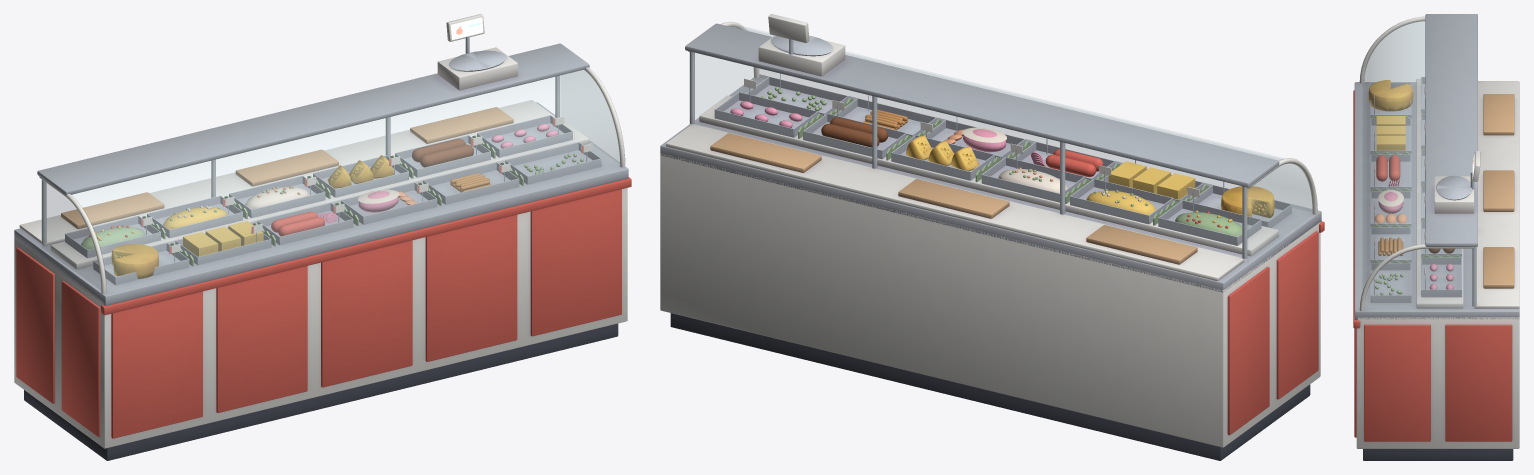
The model's file is deli-counter.fbx.
3 renders of one model, left to right at view 1: azimuth 30°, elevation 25°; view 2: azimuth 150°, elevation 25°; view 3: azimuth 270°, elevation 25°, orthographic. The views are drawn at different scales.
Parts seen in each view (by area): view 1: deli-counter_body, deli-counter_glass; view 2: deli-counter_body, deli-counter_glass; view 3: deli-counter_body, deli-counter_glass.
Part boxes in pixels (x1,y1,x2,y2): deli-counter_body: [14, 14, 631, 460]; deli-counter_glass: [41, 70, 620, 291]; deli-counter_body: [660, 14, 1324, 460]; deli-counter_glass: [689, 25, 1313, 262]; deli-counter_body: [1353, 14, 1519, 460]; deli-counter_glass: [1361, 20, 1473, 309].
Bounding box in the file's own units: 3.02 × 1.61 × 0.918.
7 materials, 1 textured.
